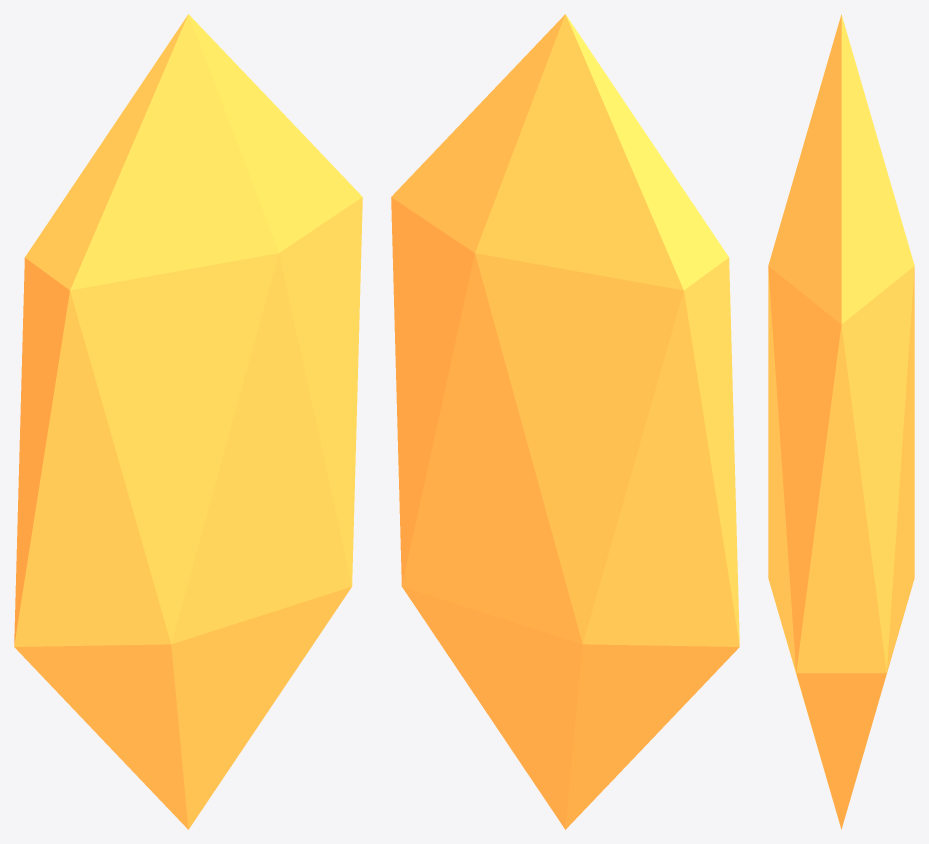
Rendered from fire_ember.glb.
The picture shows the model from 3 angles, left to right: view 1: azimuth 30°, elevation 25°; view 2: azimuth 150°, elevation 25°; view 3: azimuth 270°, elevation 25°; orthographic projection.
Visible parts, largest first — view 1: fire_ember; view 2: fire_ember; view 3: fire_ember.
Boxes of the visible parts, bbox=[...] form: fire_ember: bbox=[14, 14, 362, 829]; fire_ember: bbox=[391, 14, 739, 829]; fire_ember: bbox=[768, 14, 914, 829].
Bounding box in the file's own units: 0.3041 × 0.68 × 0.1106.
